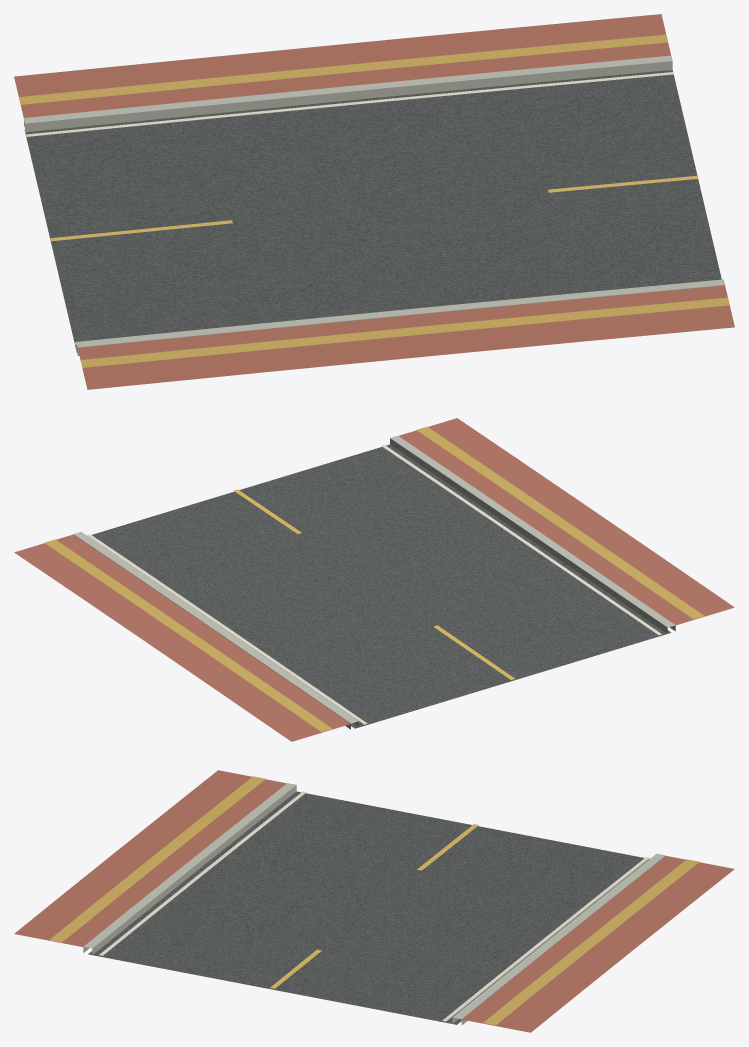
Rendered from infra-road-08.glb.
3 views of the same model, one above another, from view 1: azimuth 30°, elevation 25°; view 2: azimuth 150°, elevation 25°; view 3: azimuth 270°, elevation 25° (orthographic). The views are drawn at different scales.
Parts seen in each view (by area): view 1: infra-road-08; view 2: infra-road-08; view 3: infra-road-08.
Boxes of the visible parts, box(x1,y1,x2,y2) form: infra-road-08: box(14, 14, 734, 389); infra-road-08: box(14, 418, 734, 741); infra-road-08: box(14, 770, 734, 1032).
Size of the model in its own units: 16.91 by 0.9191 by 17.79.
Materials: 6 (1 with a texture image).
